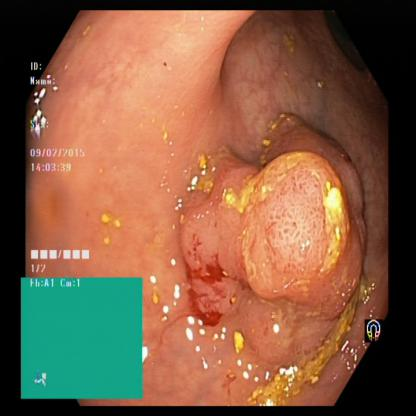Labels: (26, 60, 107, 276), (20, 279, 144, 398), (364, 314, 387, 348)
Polyps: (250, 164, 362, 304)
